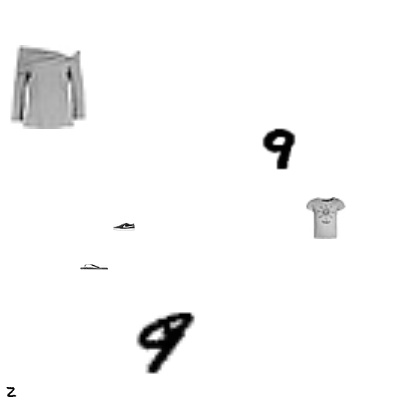2: (4, 385, 18, 399)
9: (122, 295, 206, 379), (251, 117, 307, 173)
Sandal: (80, 253, 108, 281)
Shirt: (5, 45, 89, 129)
Sneaker: (113, 215, 135, 237)
T-shirt/top: (305, 197, 347, 239)
